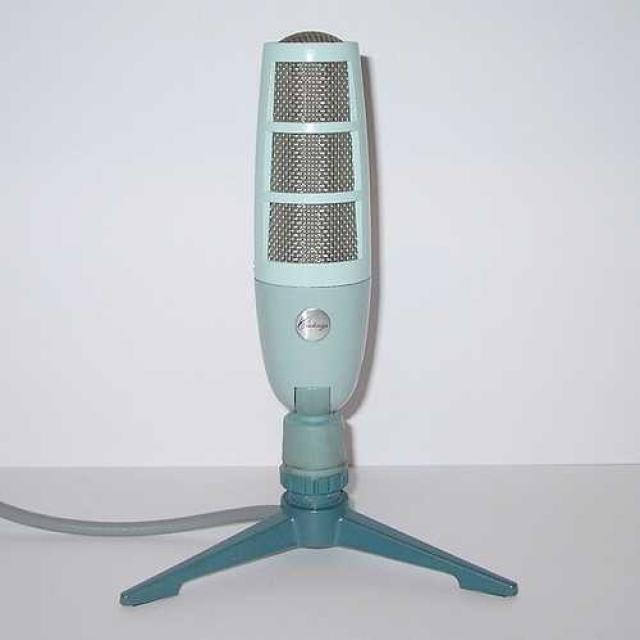microphone: (256, 39, 368, 440)
